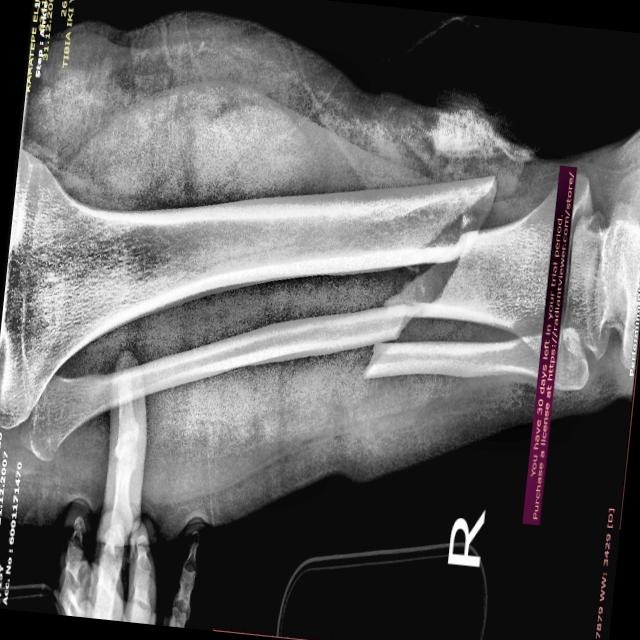Fracture: (378, 154, 508, 332), (356, 295, 422, 388)
